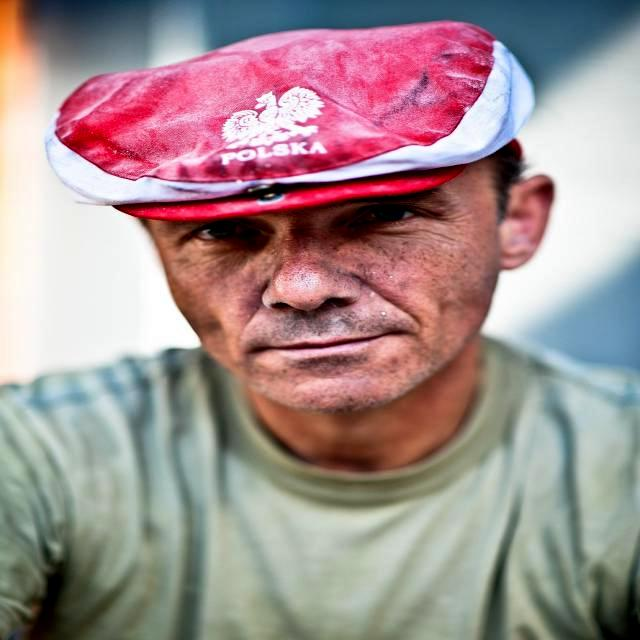no_hard_hat: (45, 21, 533, 220)
person: (0, 156, 639, 640)
